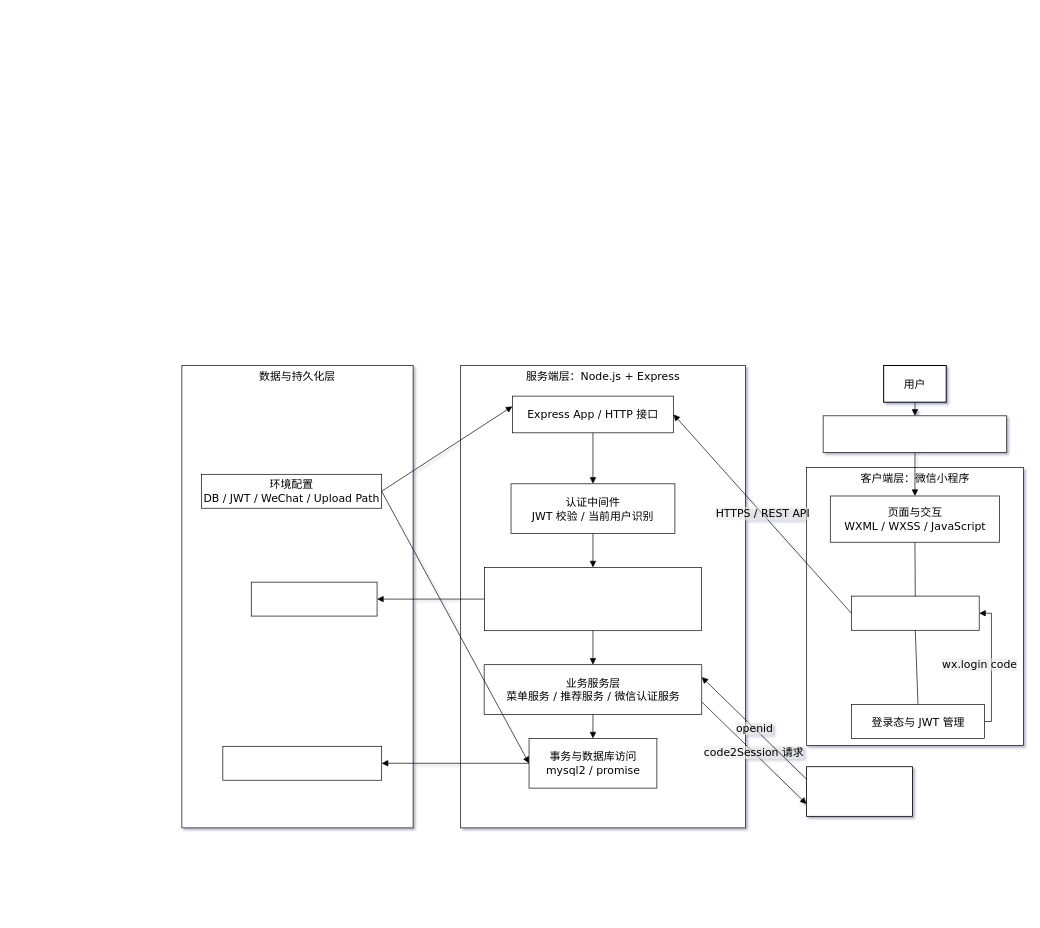
The diagram is 1040 pixels wide and 928 high, and some of its shapes have lost their labels. Each missing label, with the centre of its shape:
MySQL 8.0+ 业务数据、约束、索引、事务: (302,763)
Uploads 文件目录 菜谱封面图片: (314,598)
业务路由层 Auth / Family / Recipe / Menu Preference / Restriction / Feedback: (592,599)
微信客户端 / 小程序运行环境: (914,434)
微信开放能力 code2Session: (859,791)
统一 API 请求模块: (915,612)
